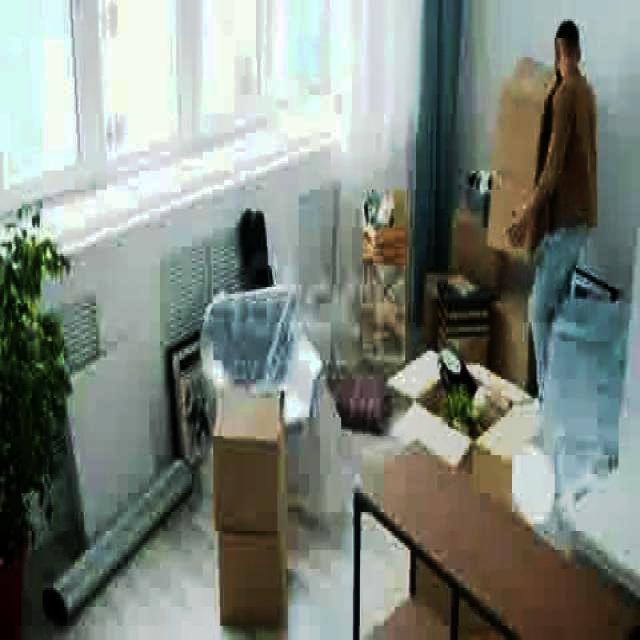Box: (216, 384, 280, 524), (220, 528, 295, 614)
